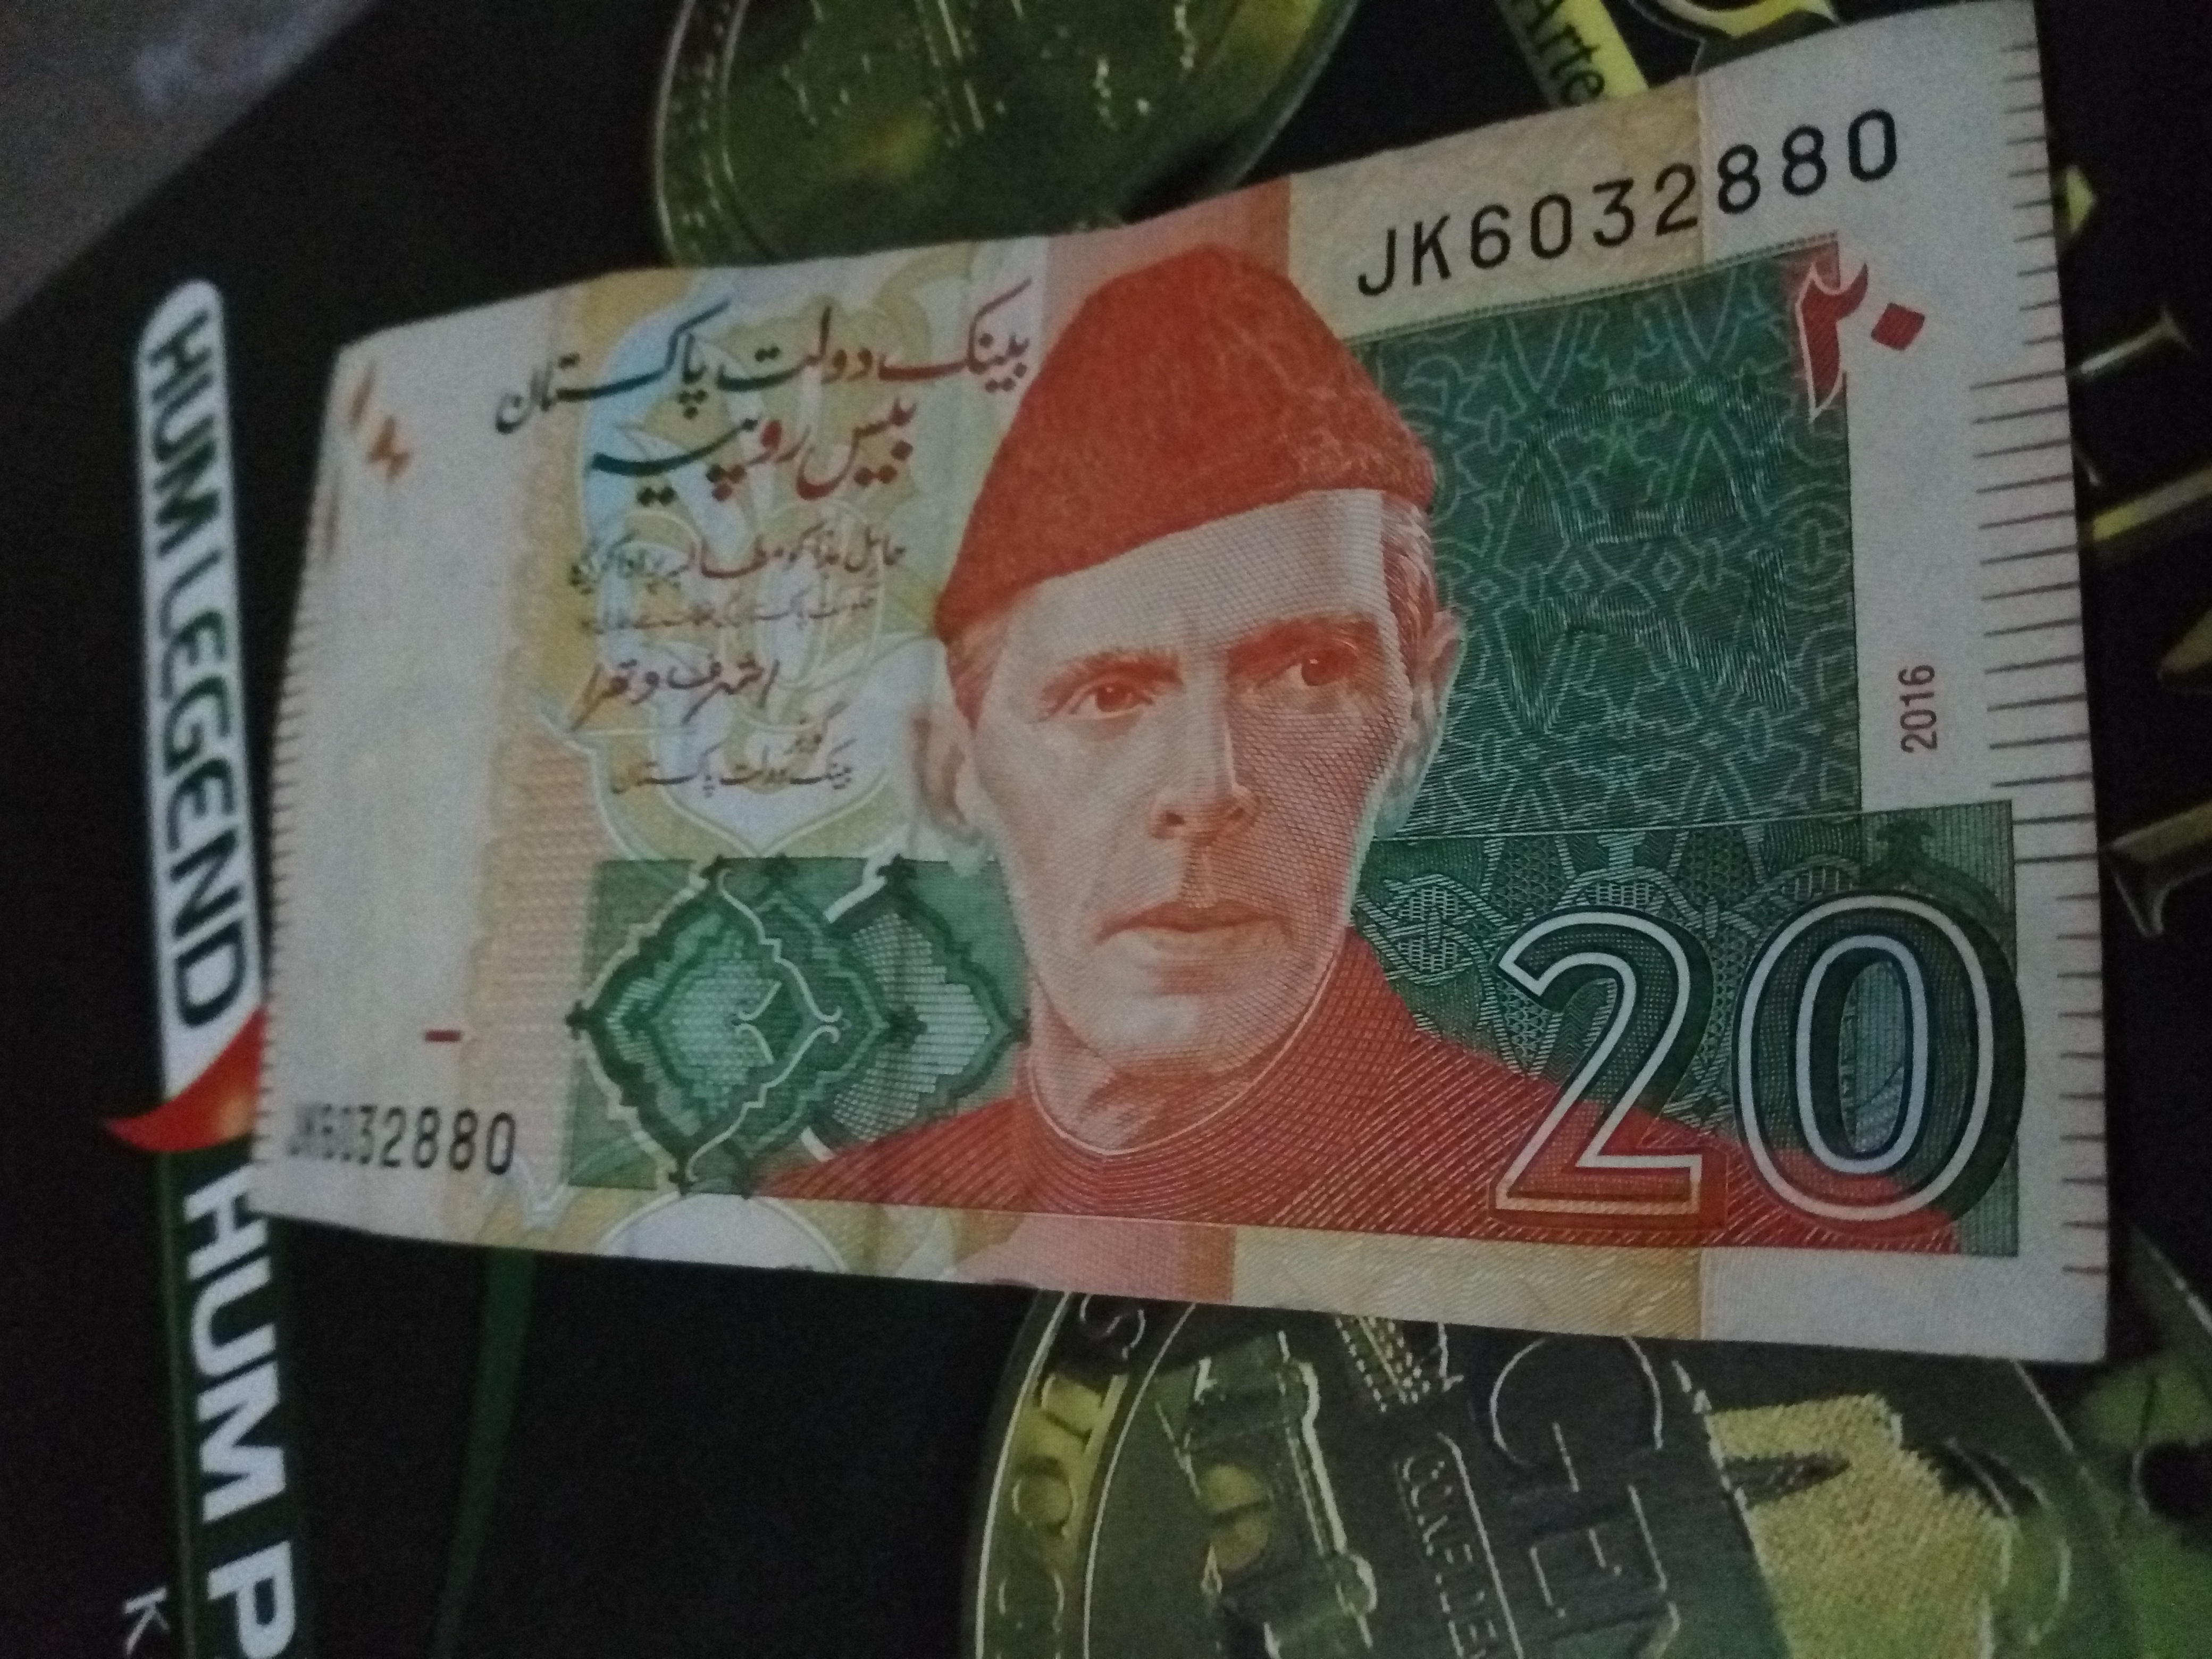20 rupee: (242, 28, 2161, 1373)
